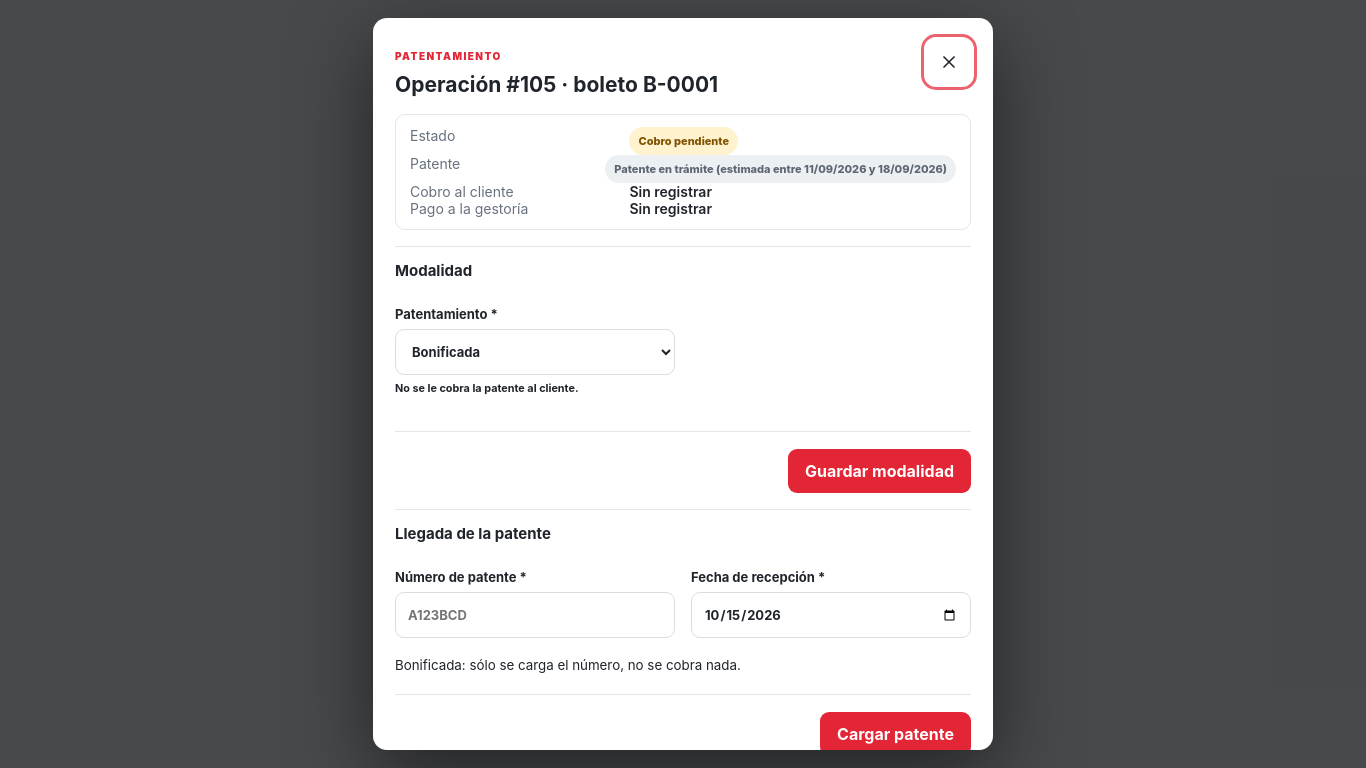
Gestión de patentamiento › valida el número de patente y traduce los errores de la API
Type "AB1" into the field labelled "Número de patente *".
click(535, 615); type("AB1")  # box [395,592,675,638]
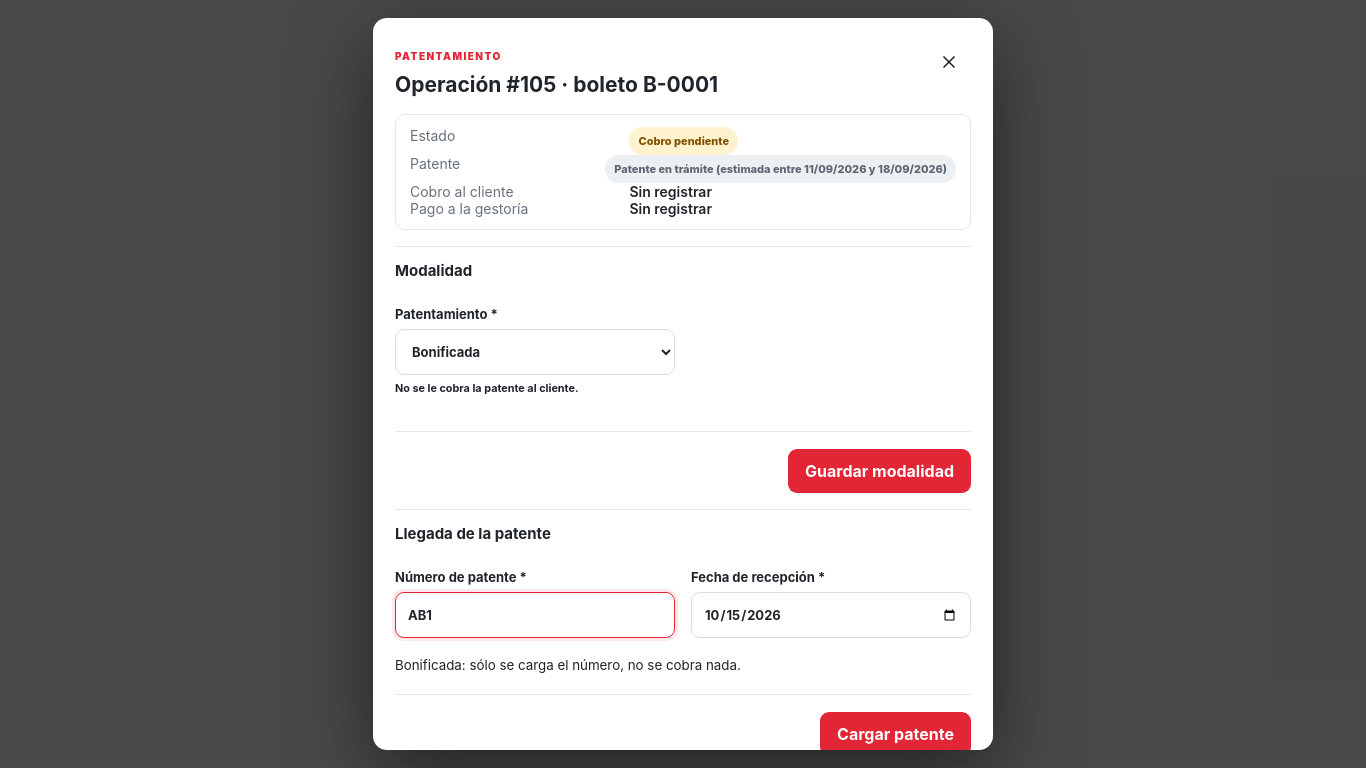
Click the button "Cargar patente".
click(896, 734)  # box [820,712,971,756]
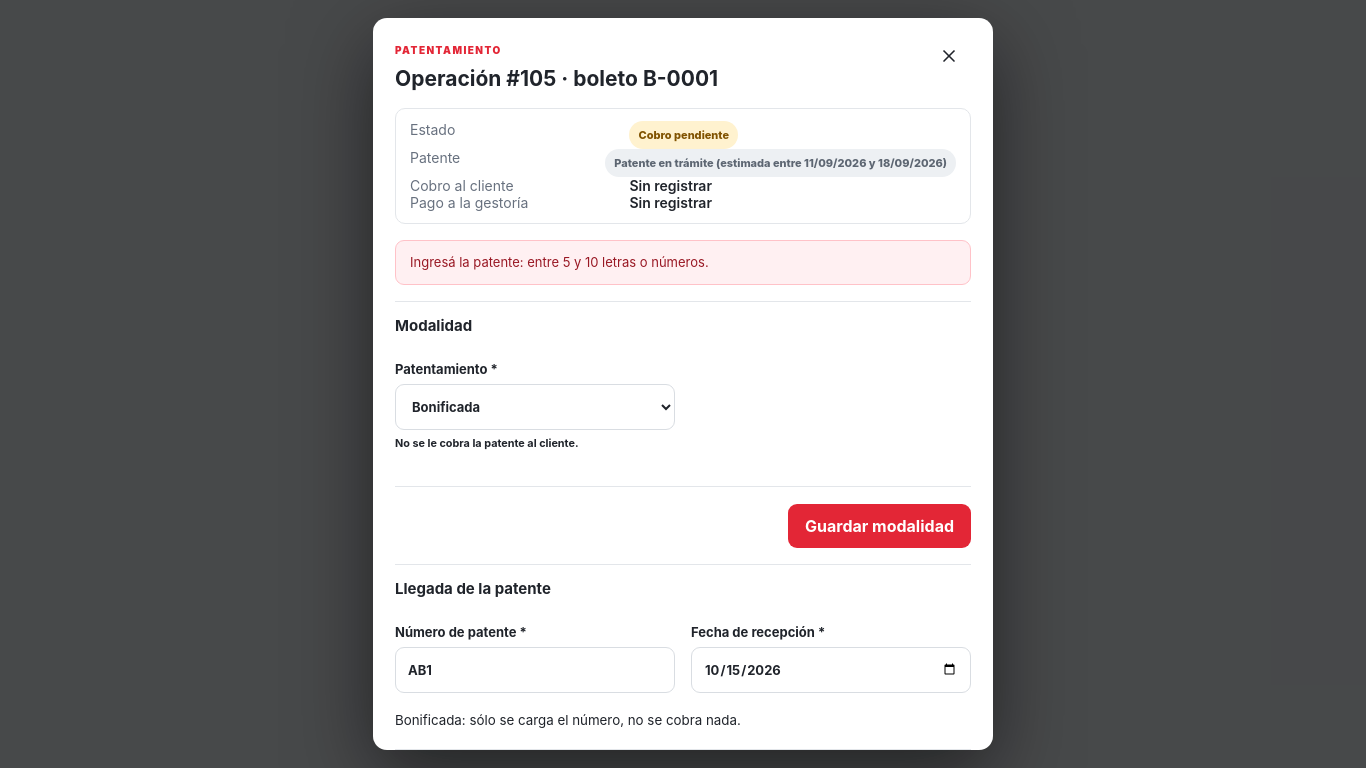
Expected: the text "Ingresá la patente: entre 5 y 10 letras o números." is shown, [395,240,971,285]
Type "23CD" into the field labelled "Número de patente *".
click(535, 670); type("23CD")  # box [395,647,675,693]
(page scrolled)
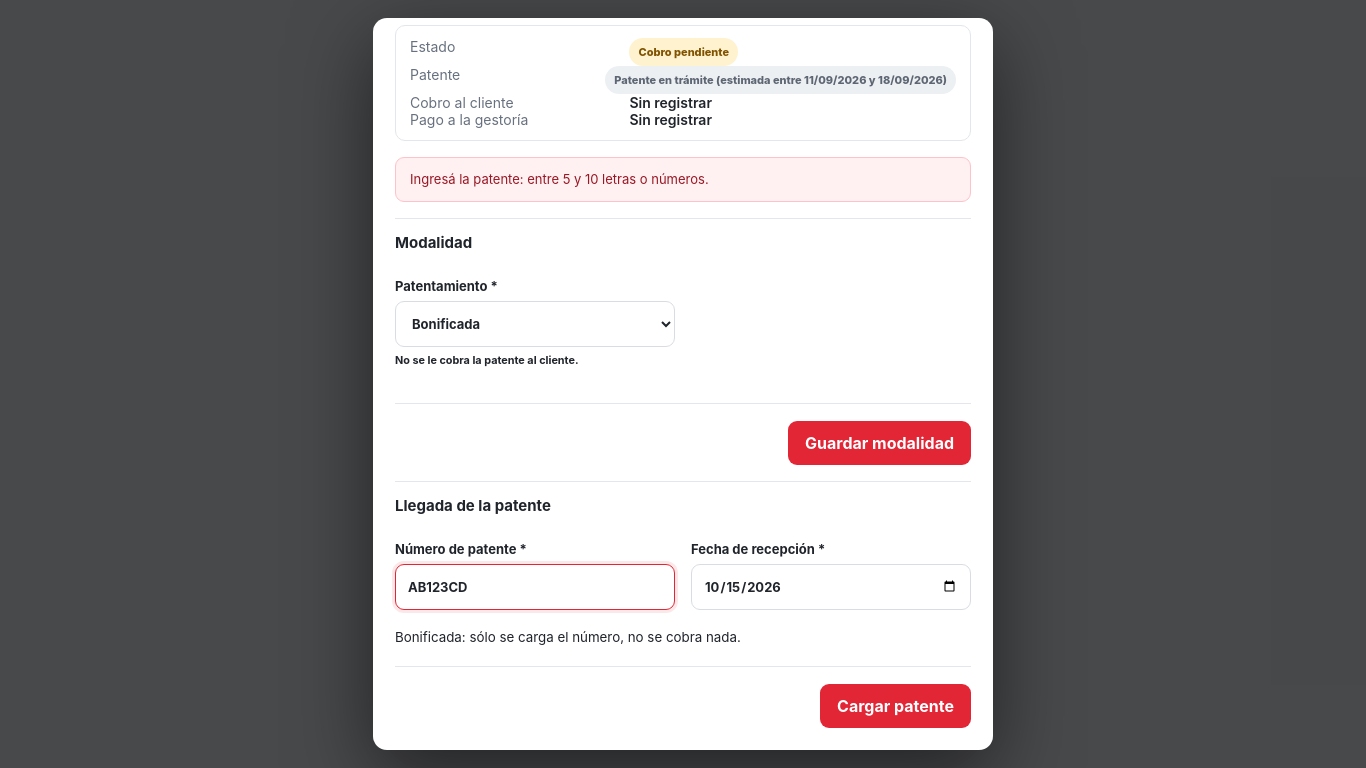
Click the button "Cargar patente".
click(896, 706)  # box [820,684,971,728]
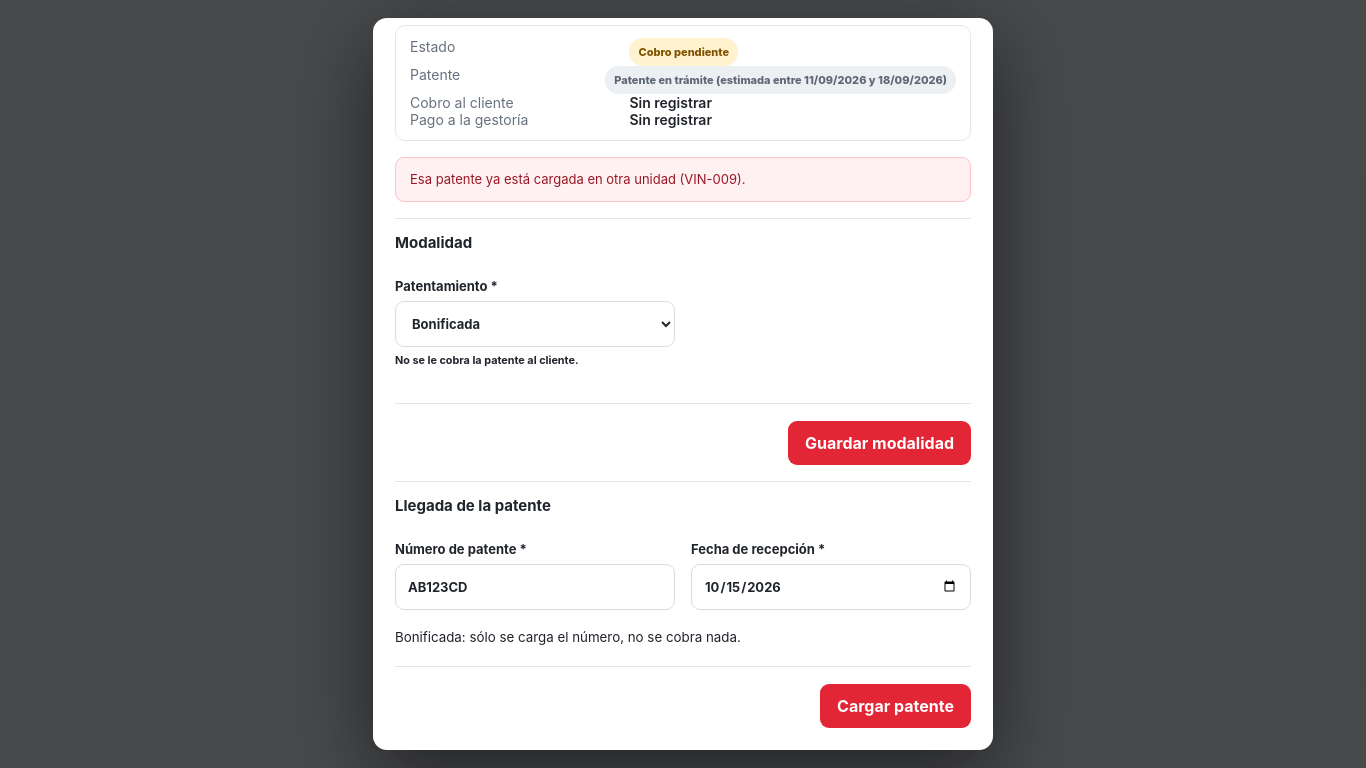
Expected: the text "Esa patente ya está cargada en otra unidad (VIN-009)." is shown, [395,157,971,202]
